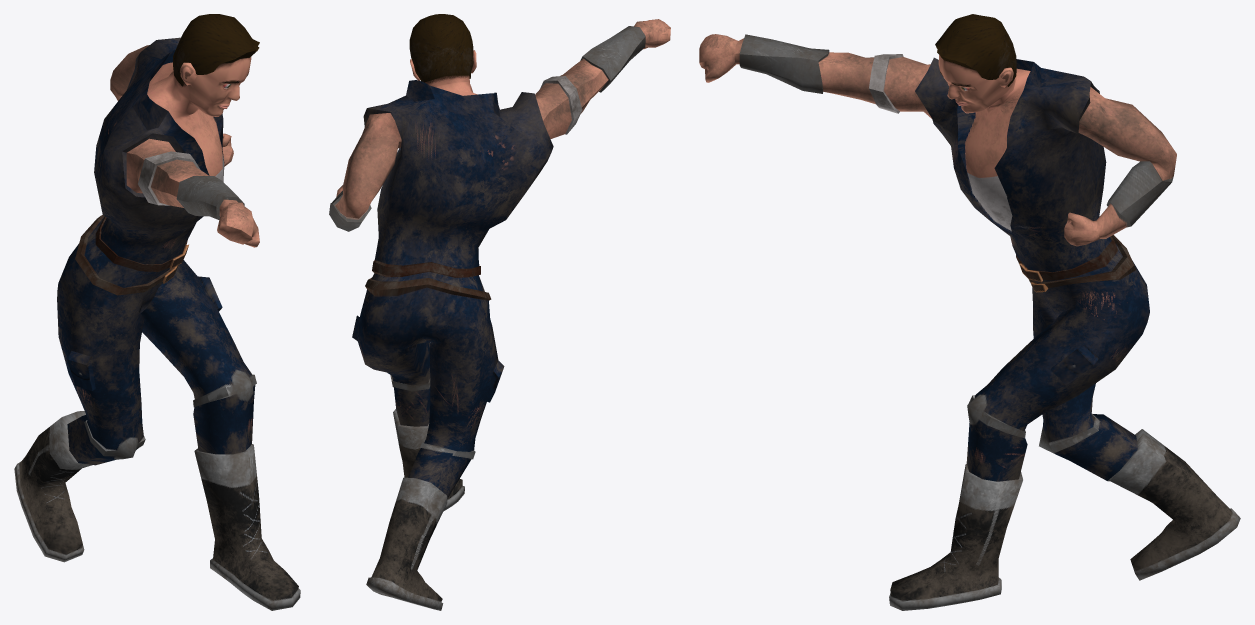
The model's file is Anim_ataque_d1_jugador.0022.obj.
3 renders of one model, left to right at view 1: azimuth 30°, elevation 25°; view 2: azimuth 150°, elevation 25°; view 3: azimuth 270°, elevation 25°, orthographic. The views are drawn at different scales.
Parts seen in each view (by area): view 1: polySurface1; view 2: polySurface1; view 3: polySurface1.
Boxes of the visible parts, x1,y1,x2,y2 form: polySurface1: [14, 14, 300, 610]; polySurface1: [329, 14, 670, 610]; polySurface1: [699, 14, 1240, 610].
Bounding box in the file's own units: 3.03 × 8.79 × 7.31.
